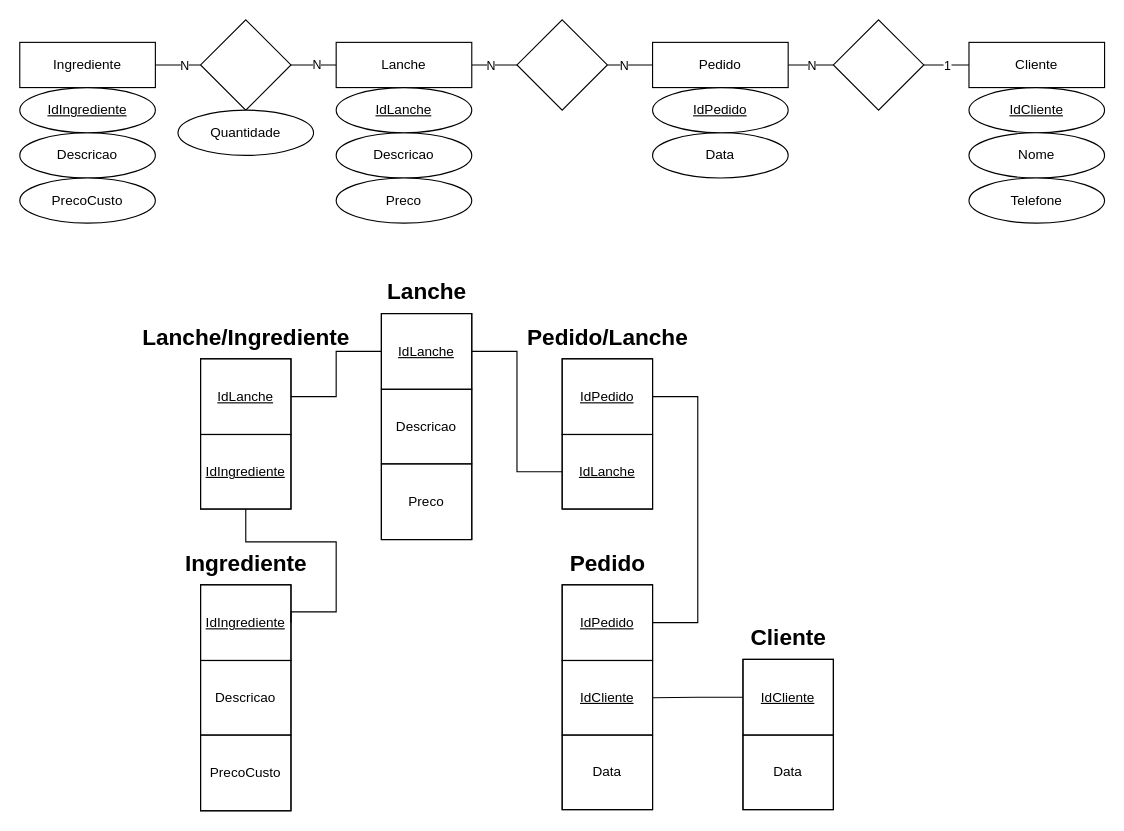
Image size: 1124x831. Some labels were removed from this diagram. The centre of each missing label's shape, as x and y in pixels:
"Contém" goes at pixel 561 64.
"Faz" goes at pixel 878 64.
"Possui" goes at pixel 245 64.
